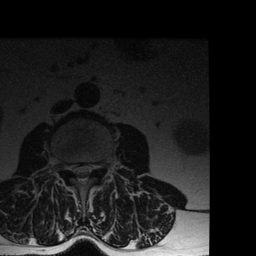CCS_normal: (79, 156, 86, 190)
LFS_normal: (93, 155, 101, 176)
LLS_normal: (86, 157, 93, 180)
RFS_stenosis: (64, 155, 72, 177)
RLS_normal: (72, 157, 79, 179)
